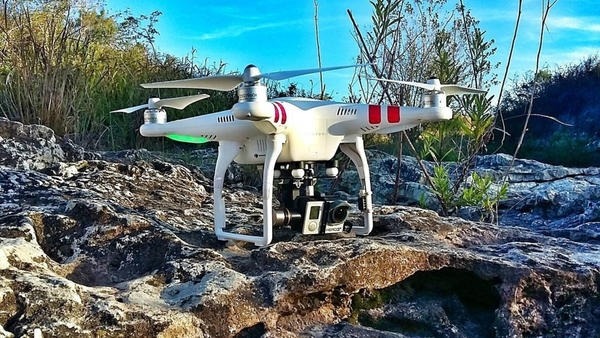drone: (108, 62, 489, 249)
